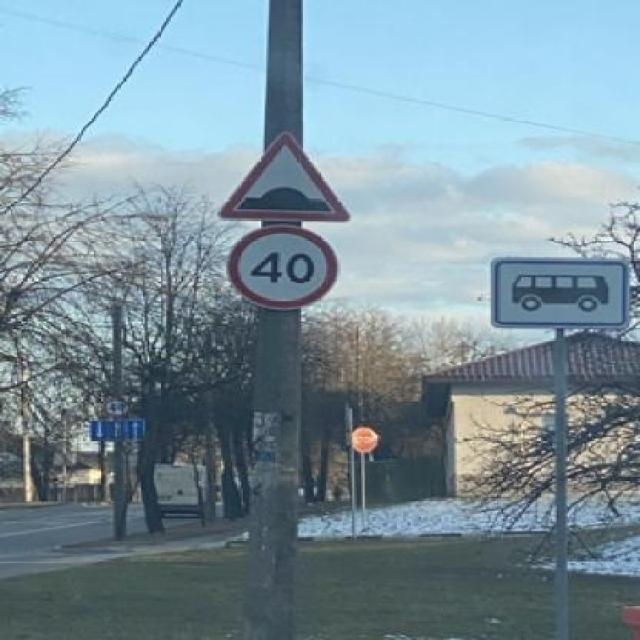forb_speed_over_40: (232, 225, 339, 310)
